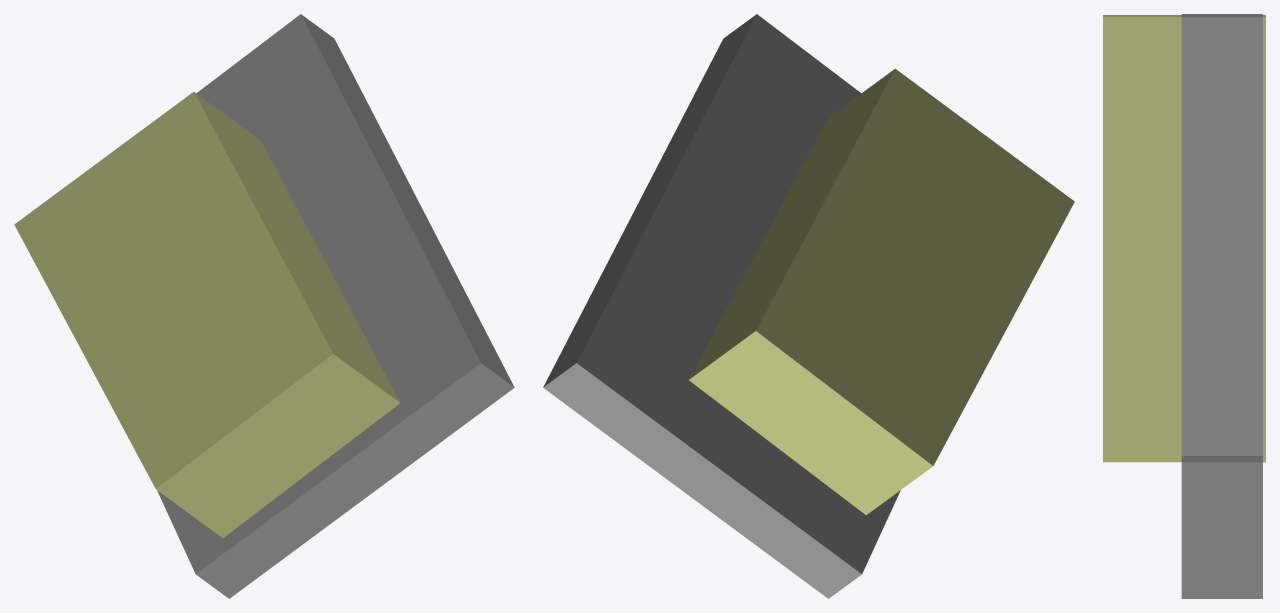
The picture shows the model from 3 angles, left to right: view 1: azimuth 30°, elevation 25°; view 2: azimuth 150°, elevation 25°; view 3: azimuth 270°, elevation 25°; orthographic projection. The views are drawn at different scales.
Visible parts, largest first — view 1: 0_1_0_2_1_2_3_2_3; view 2: 0_1_0_2_1_2_3_2_3; view 3: 0_1_0_2_1_2_3_2_3.
Part boxes in pixels (bbox=[...]): 0_1_0_2_1_2_3_2_3: bbox=[14, 14, 514, 598]; 0_1_0_2_1_2_3_2_3: bbox=[543, 14, 1074, 598]; 0_1_0_2_1_2_3_2_3: bbox=[1103, 14, 1265, 598].
Bounding box in the file's own units: 24 × 26.33 × 6.
